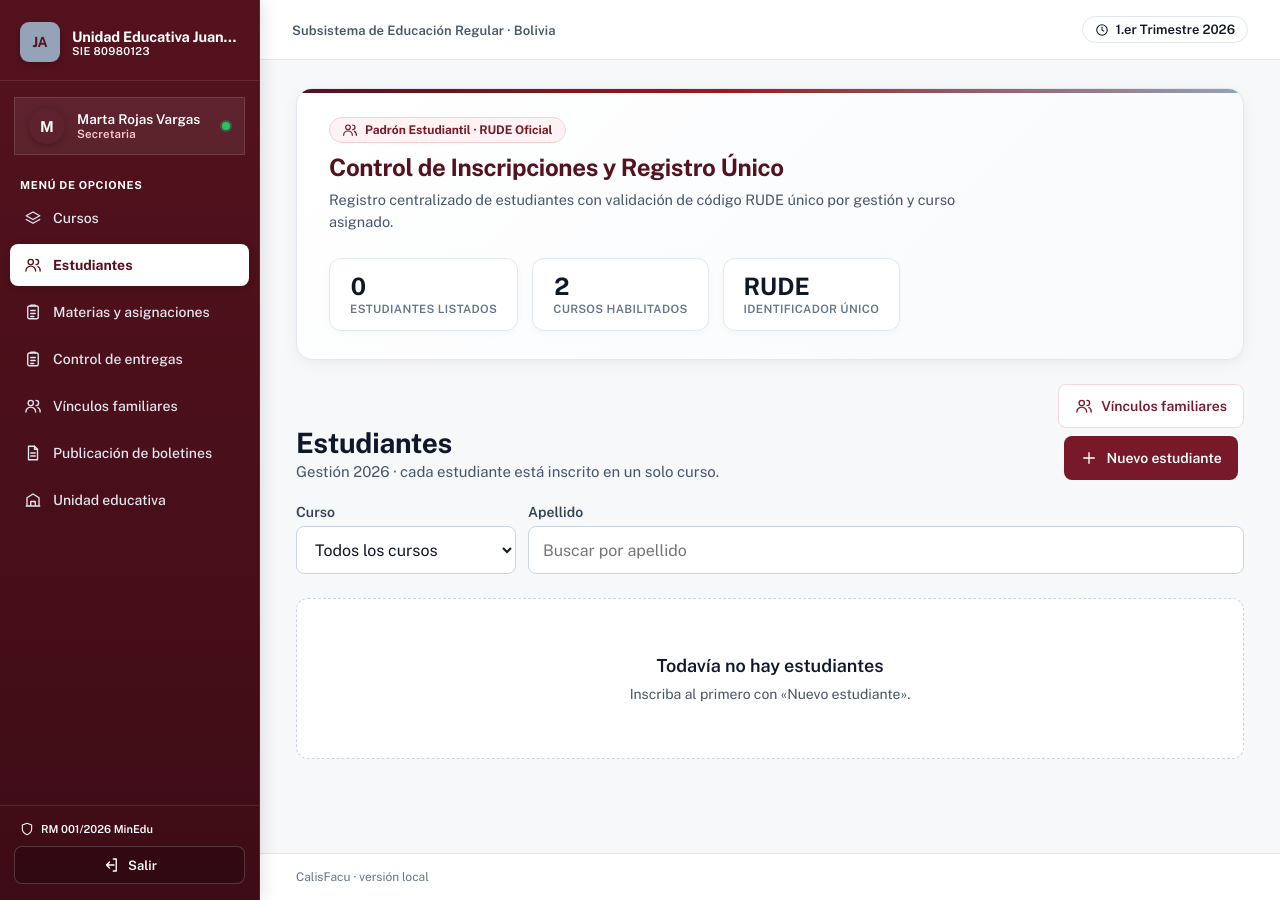
Estudiantes (US-18, criterio 3) › debe validar el RUDE, los nombres y el curso antes de enviar
Click the button "Nuevo estudiante". click: (1151, 458)
box: [1064,436,1238,480]
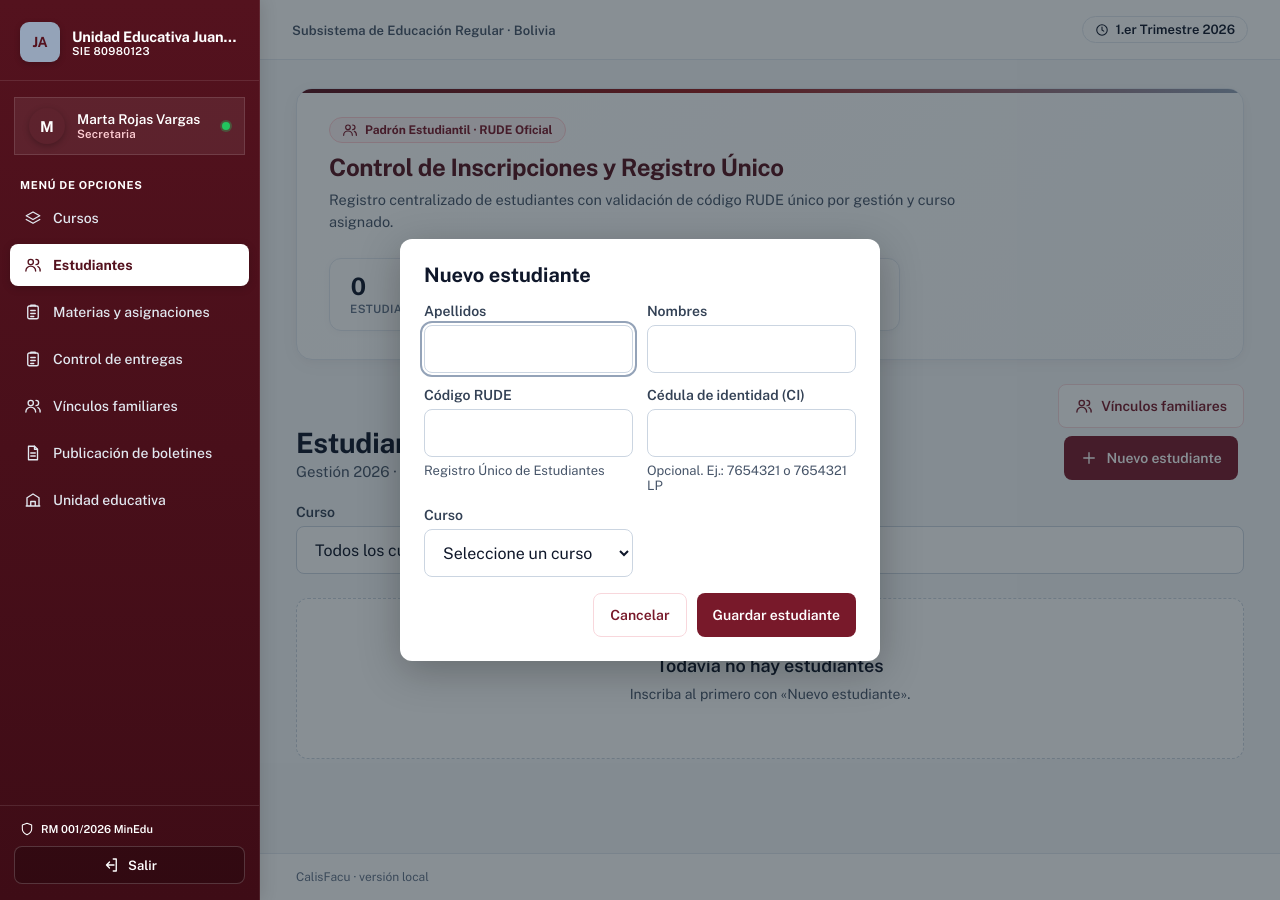
Type "R-1" into the field labelled "Código RUDE Registro Único de Estudiantes". click: (528, 433)
box: [424,409,633,457]
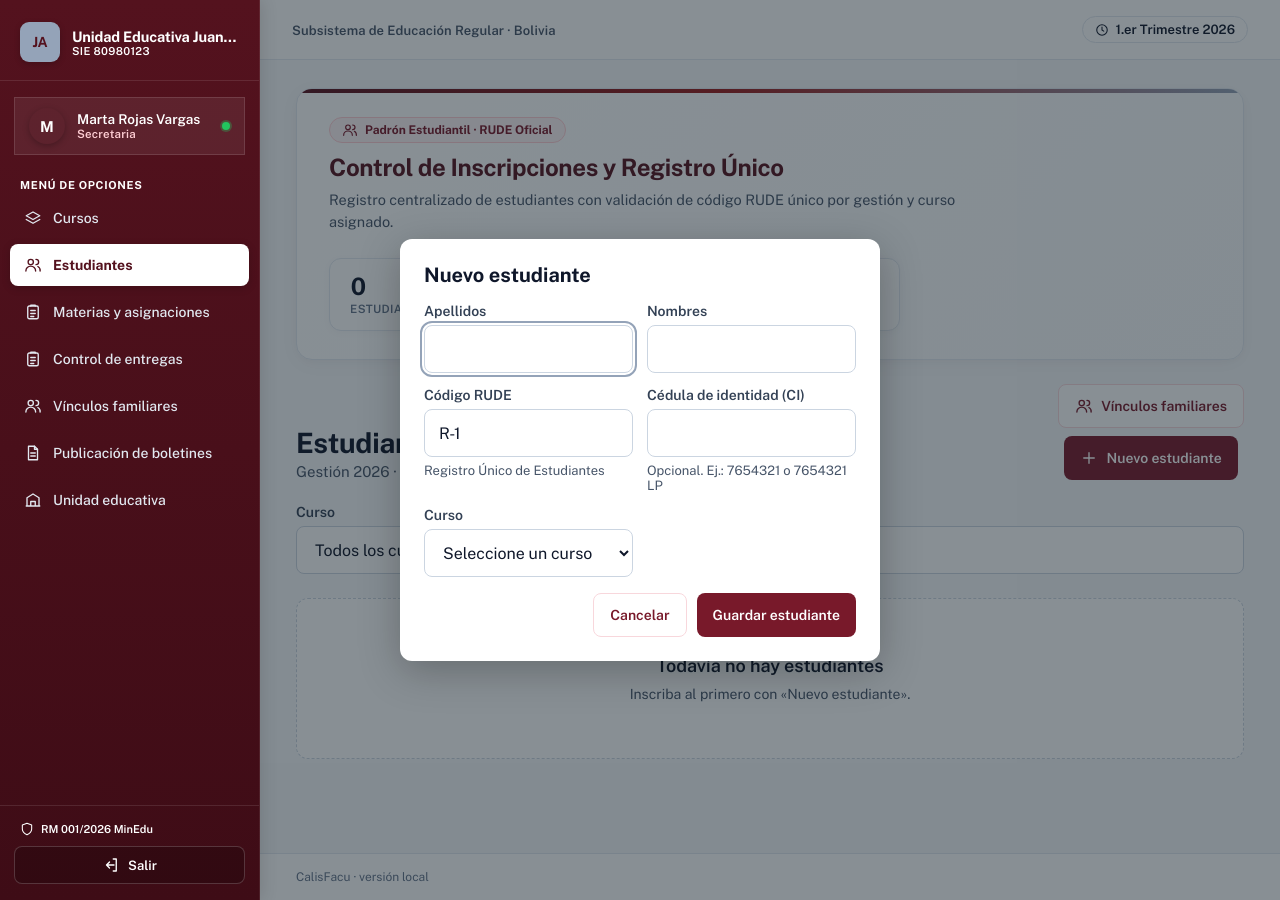
Click the button "Guardar estudiante". click: (776, 615)
box: [696,593,856,637]
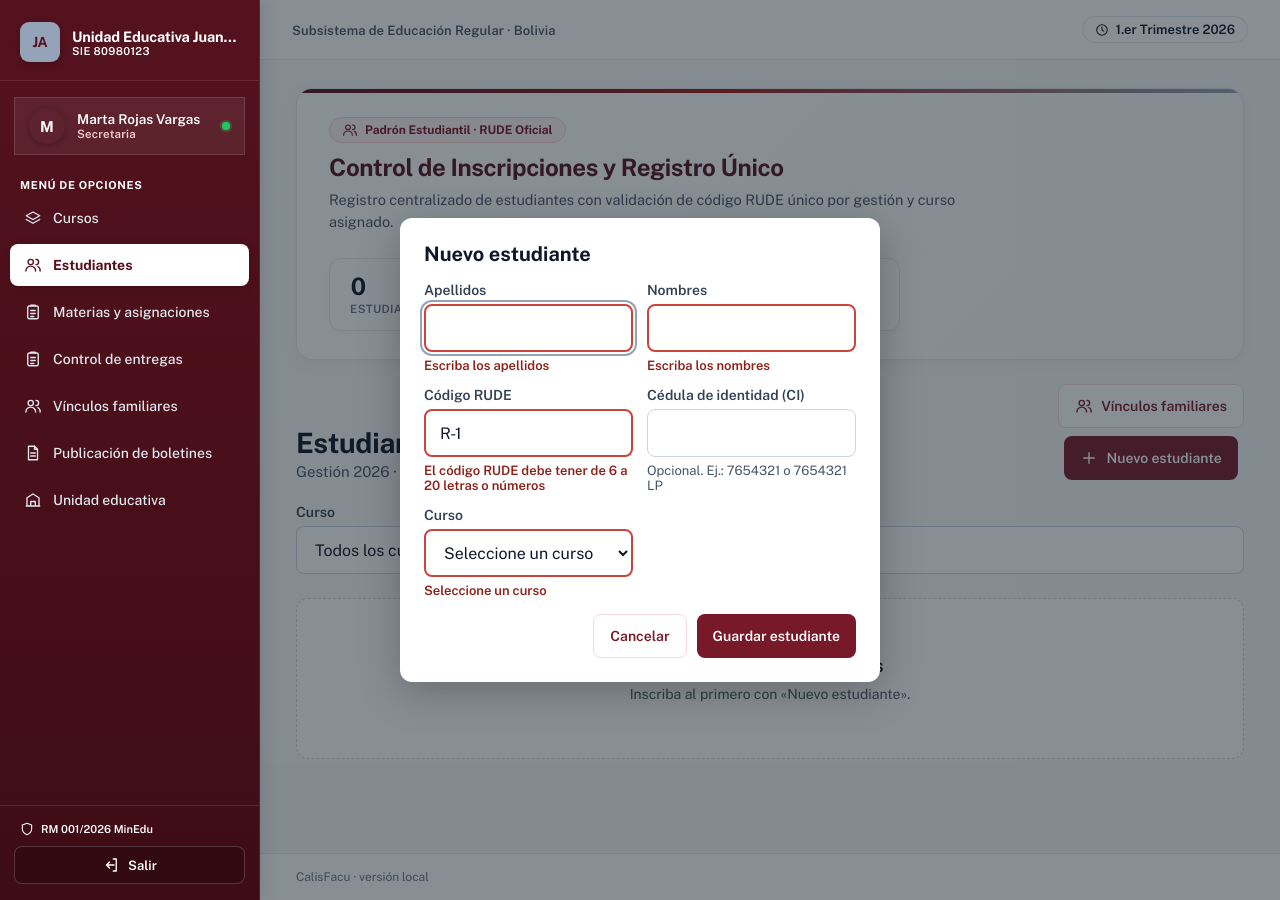
Result: the text "El código RUDE debe tener de 6 a 20 letras o números" is shown at [424,463,633,493]
Result: the text "Escriba los nombres" is shown at [647,358,770,373]
Result: the text "Seleccione un curso" is shown at [424,583,547,598]
